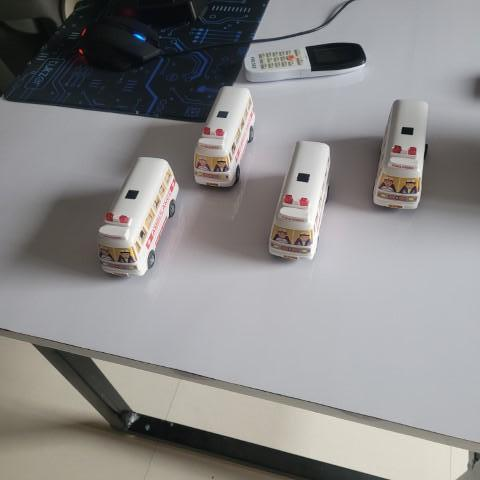ambulance: (93, 153, 181, 281), (267, 137, 336, 265), (189, 83, 257, 191), (375, 98, 435, 212)
